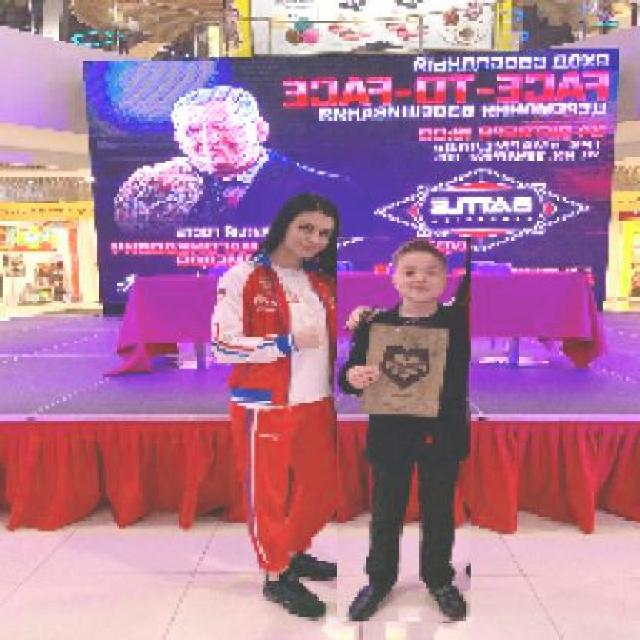child: (335, 237, 471, 623)
